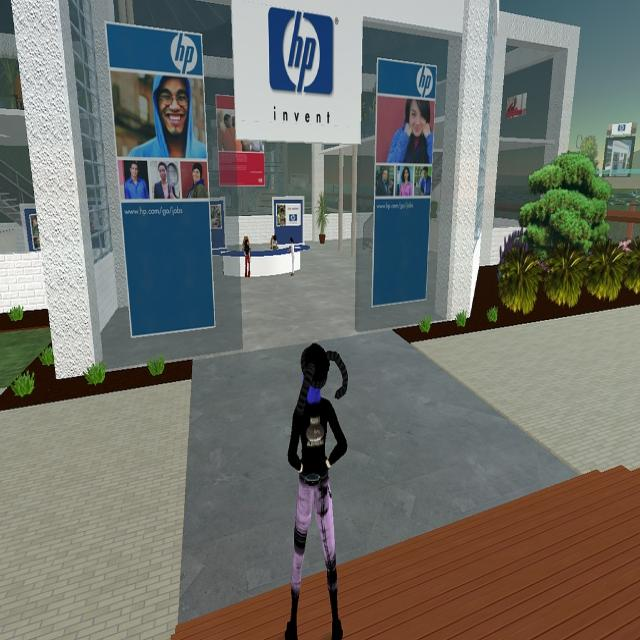HP: (269, 6, 339, 99), (170, 33, 204, 81), (414, 67, 438, 99)
